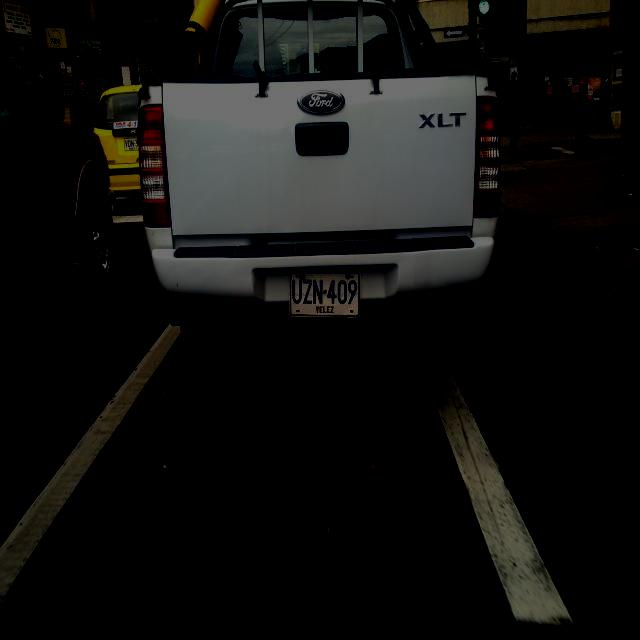placa: (286, 265, 362, 322)
